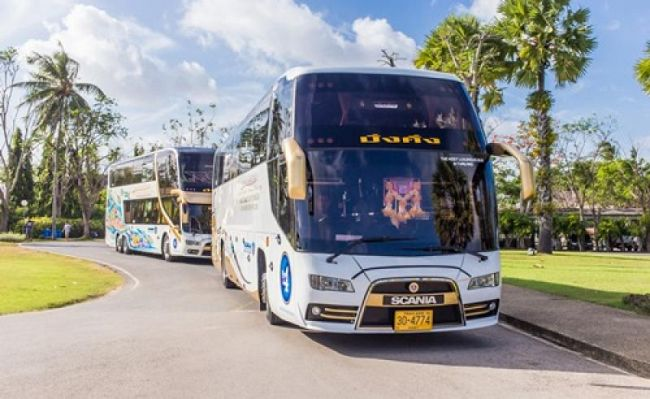bus: (209, 65, 504, 337)
